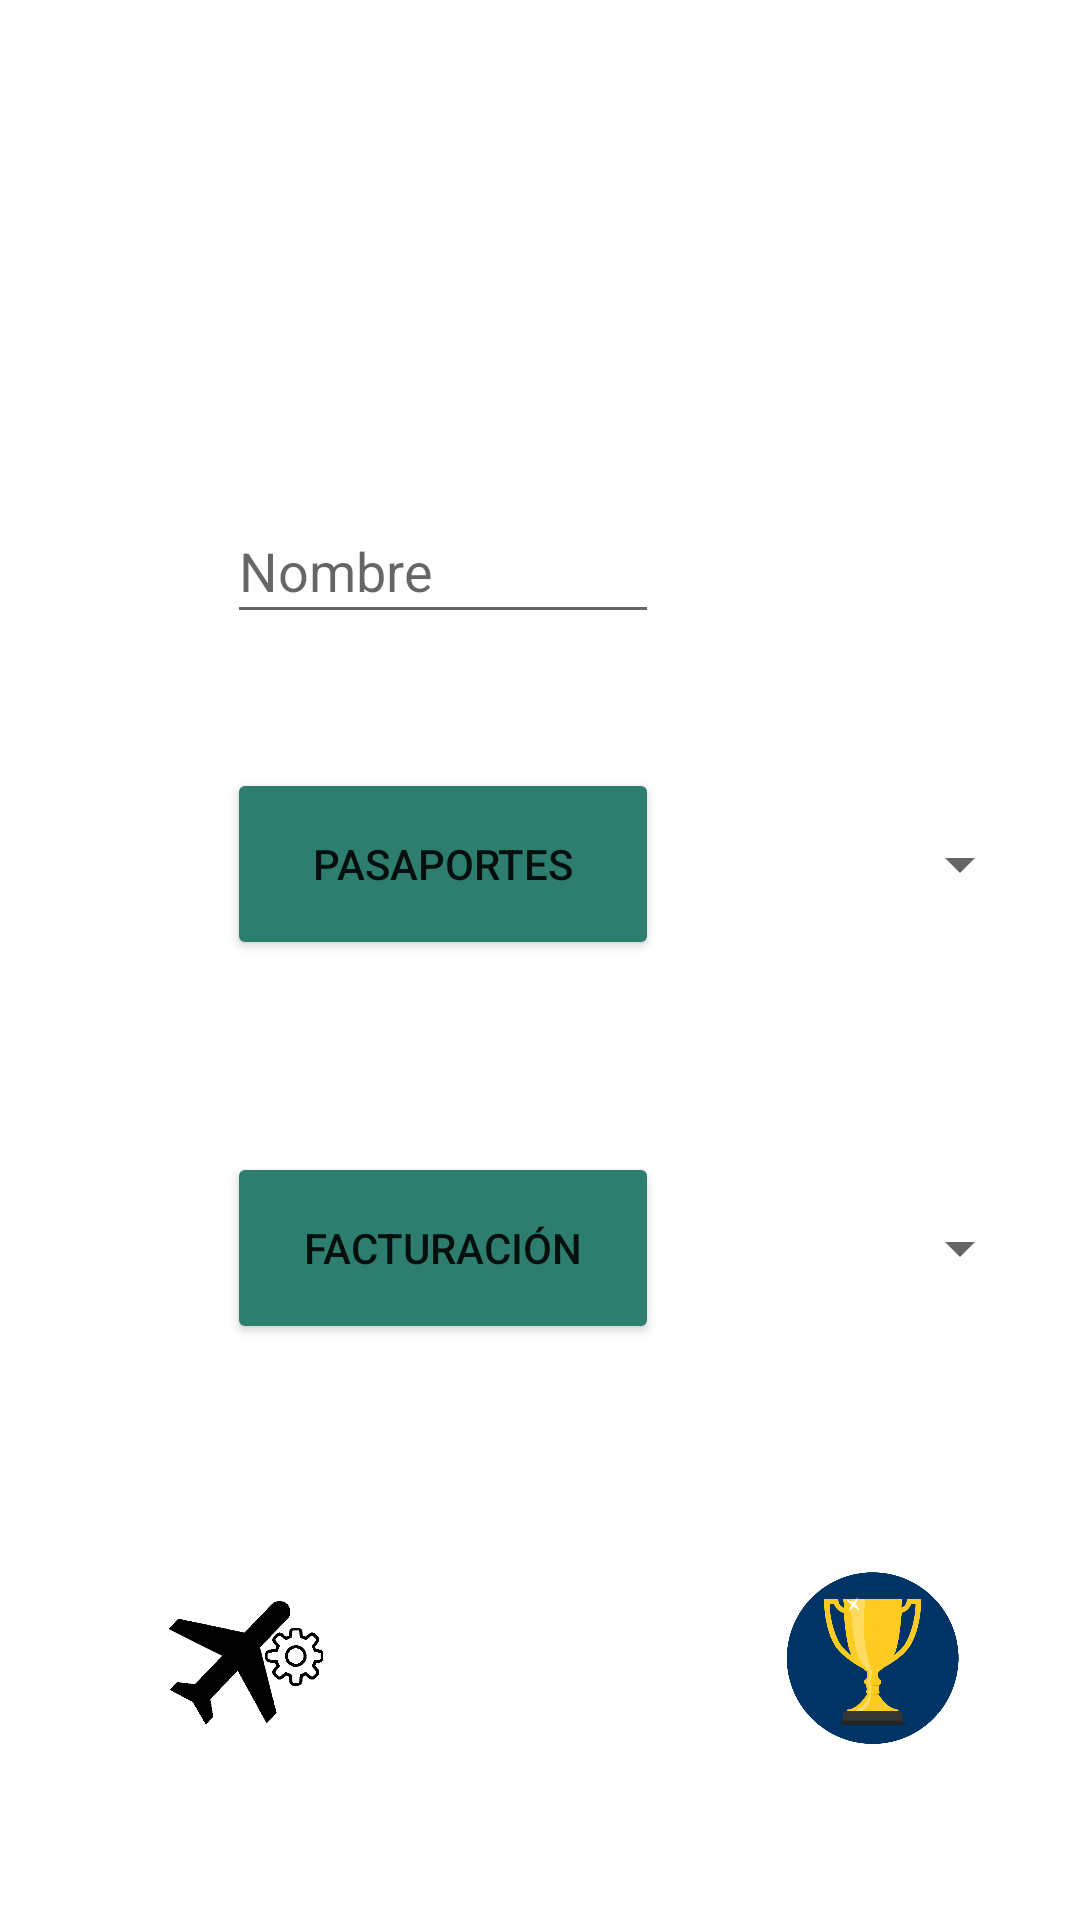

Icon click points for this 1080*1920 phone screenshot, format point (x, y):
configavion: point (246, 1662)
trofeo: point (873, 1658)
